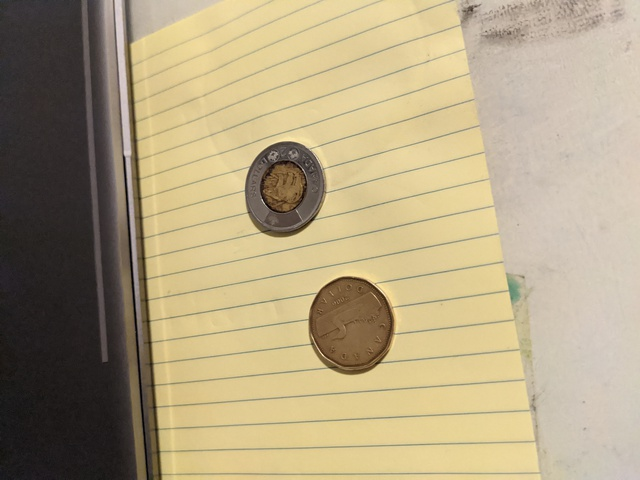loonie: (297, 267, 407, 372)
twonie: (236, 140, 335, 241)
